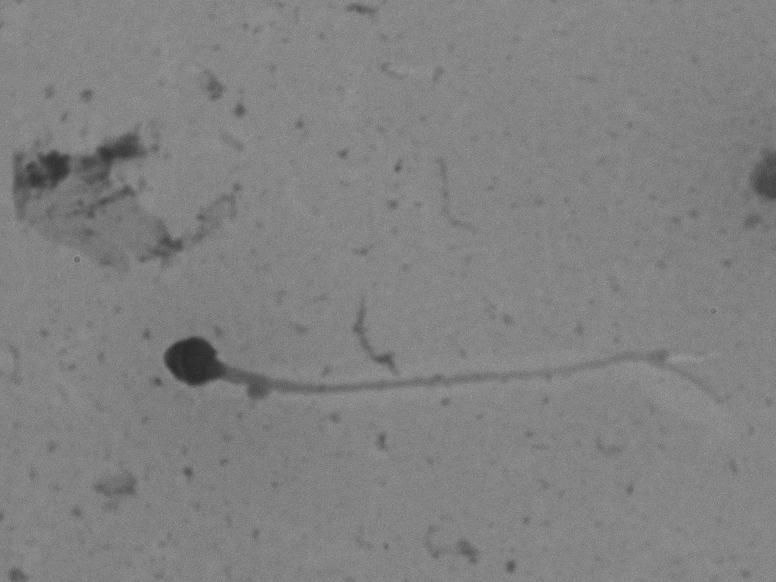Abnormal: (122, 295, 727, 437)
